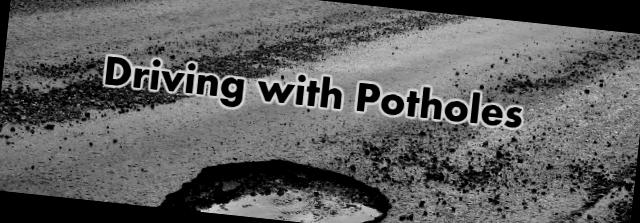Pothole: (150, 141, 411, 223)
